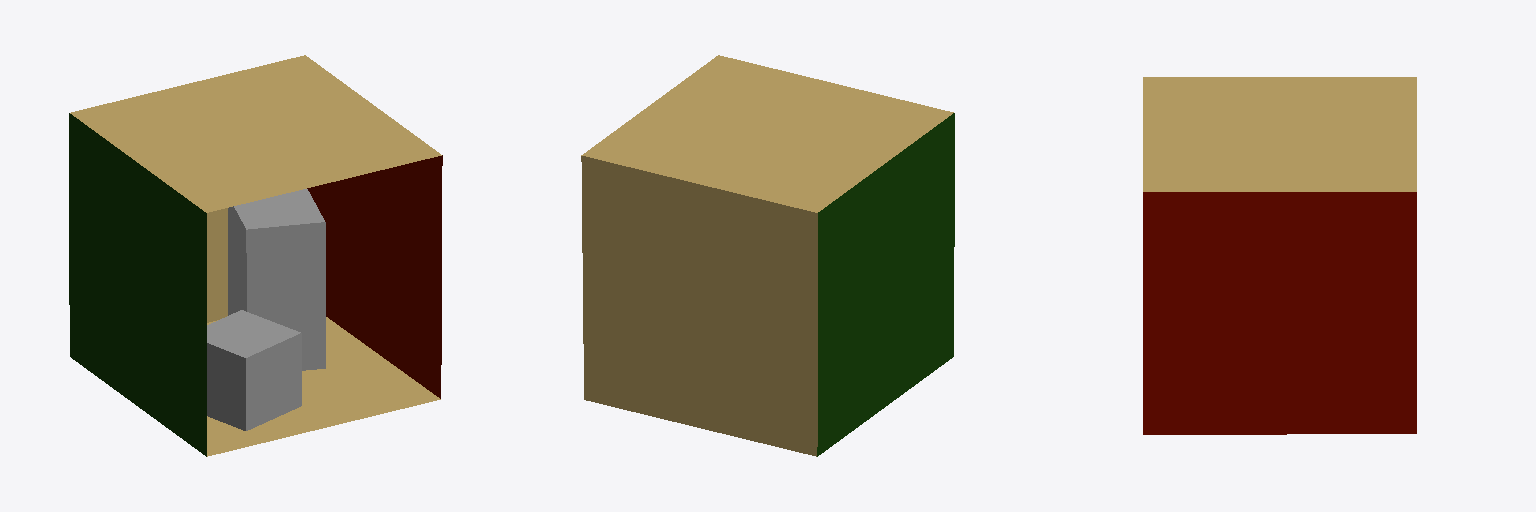
File: cornellbox.obj
3 views of the same model, side by side, from view 1: azimuth 30°, elevation 25°; view 2: azimuth 150°, elevation 25°; view 3: azimuth 270°, elevation 25° (orthographic).
Bounding box in the file's own units: 0.7808 × 0.7709 × 0.7855.